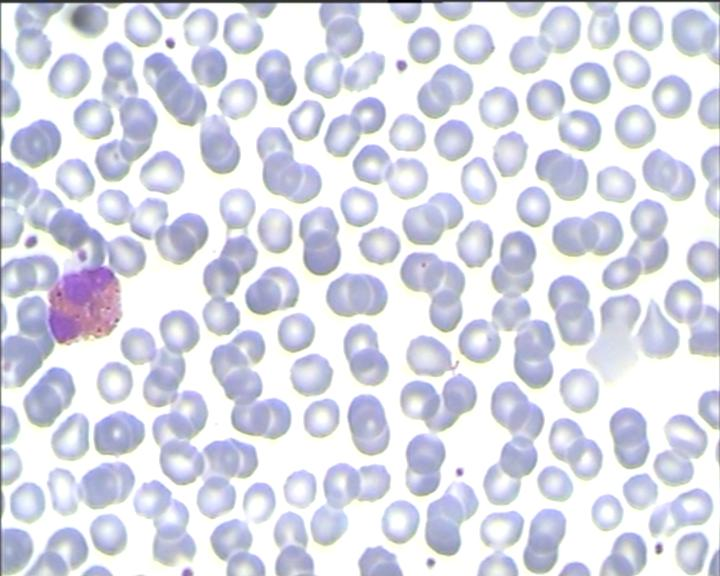eosi: (48, 261, 126, 350)
